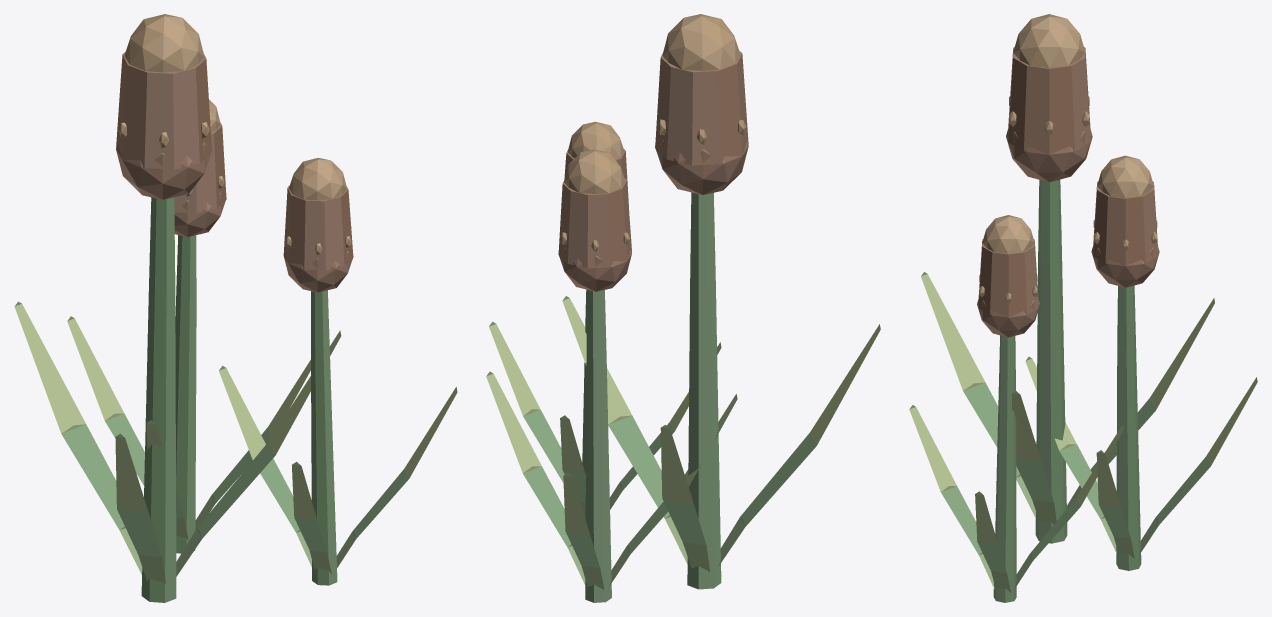
Rendered from cattail_cluster.glb.
3 views of the same model, side by side, from view 1: azimuth 30°, elevation 25°; view 2: azimuth 150°, elevation 25°; view 3: azimuth 270°, elevation 25° (orthographic). The views are drawn at different scales.
Visible parts, largest first — view 1: Tall_cattail_seed_head, Tall_cattail_leaves, Tall_cattail_stalk, Short_cattail_seed_head, Short_cattail_leaves, Back_cattail_stalk, Short_cattail_stalk, Back_cattail_leaves, Back_cattail_seed_head; view 2: Tall_cattail_seed_head, Tall_cattail_stalk, Tall_cattail_leaves, Back_cattail_seed_head, Back_cattail_stalk, Back_cattail_leaves, Short_cattail_leaves, Short_cattail_seed_head; view 3: Tall_cattail_seed_head, Tall_cattail_stalk, Tall_cattail_leaves, Back_cattail_seed_head, Short_cattail_seed_head, Back_cattail_stalk, Short_cattail_leaves, Back_cattail_leaves, Short_cattail_stalk.
Part boxes in pixels (x1=…): Tall_cattail_seed_head: x1=116, y1=14, x2=212, y2=199; Tall_cattail_leaves: x1=14, y1=301, x2=341, y2=583; Tall_cattail_stalk: x1=141, y1=197, x2=176, y2=602; Short_cattail_seed_head: x1=283, y1=157, x2=353, y2=292; Short_cattail_leaves: x1=219, y1=365, x2=457, y2=574; Back_cattail_stalk: x1=175, y1=235, x2=196, y2=553; Short_cattail_stalk: x1=311, y1=290, x2=337, y2=585; Back_cattail_leaves: x1=67, y1=316, x2=310, y2=540; Back_cattail_seed_head: x1=151, y1=99, x2=226, y2=236; Tall_cattail_seed_head: x1=655, y1=14, x2=748, y2=194; Tall_cattail_stalk: x1=687, y1=192, x2=721, y2=589; Tall_cattail_leaves: x1=562, y1=296, x2=880, y2=571; Back_cattail_seed_head: x1=558, y1=149, x2=631, y2=291; Back_cattail_stalk: x1=585, y1=290, x2=611, y2=602; Back_cattail_leaves: x1=486, y1=371, x2=737, y2=589; Short_cattail_leaves: x1=489, y1=321, x2=721, y2=518; Short_cattail_seed_head: x1=564, y1=121, x2=629, y2=210; Tall_cattail_seed_head: x1=1006, y1=14, x2=1092, y2=182; Tall_cattail_stalk: x1=1035, y1=179, x2=1067, y2=543; Tall_cattail_leaves: x1=921, y1=272, x2=1214, y2=524; Back_cattail_seed_head: x1=1091, y1=155, x2=1159, y2=287; Short_cattail_seed_head: x1=977, y1=215, x2=1039, y2=337; Back_cattail_stalk: x1=1116, y1=285, x2=1141, y2=570; Short_cattail_leaves: x1=909, y1=405, x2=1124, y2=592; Back_cattail_leaves: x1=1025, y1=356, x2=1257, y2=558; Short_cattail_stalk: x1=993, y1=335, x2=1016, y2=602.
Size of the model in its own units: 1.25 by 1.86 by 1.13.
